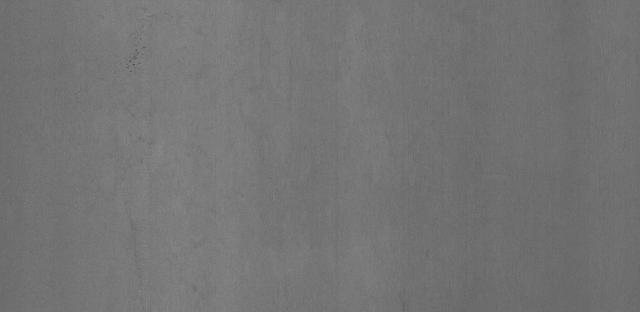inclusion: (121, 33, 152, 76)
